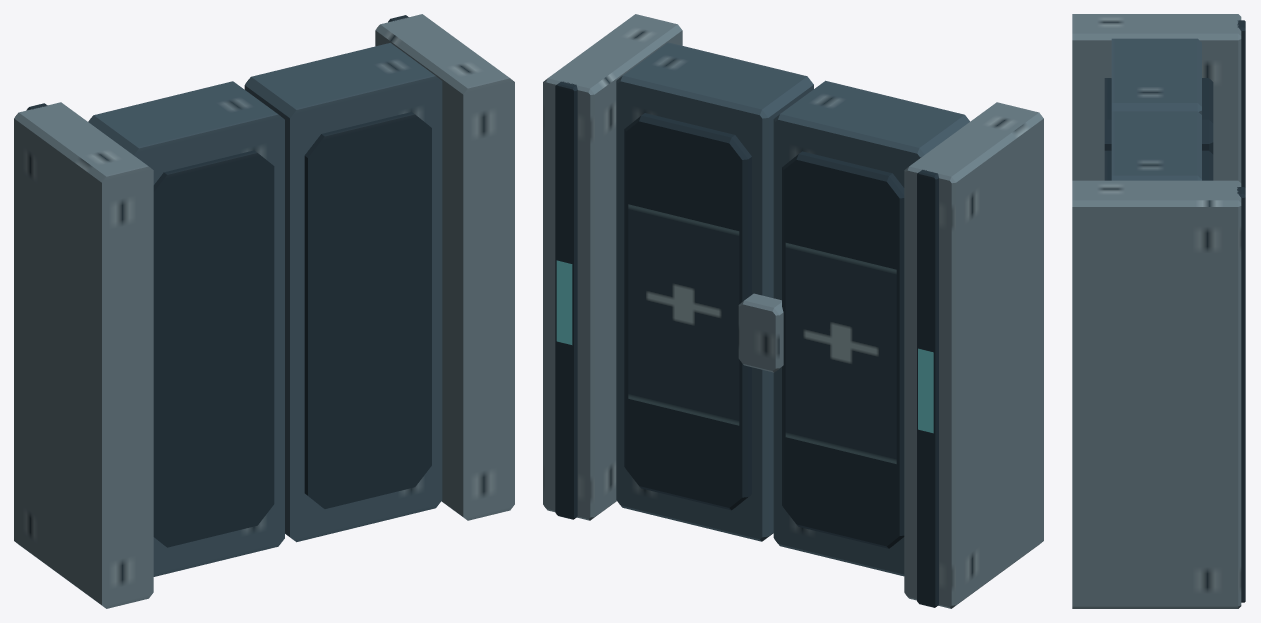
Rendered from ship_door.obj.
The picture shows the model from 3 angles, left to right: view 1: azimuth 30°, elevation 25°; view 2: azimuth 150°, elevation 25°; view 3: azimuth 270°, elevation 25°; orthographic projection. The views are drawn at different scales.
Visible parts, largest first — view 1: frame_0, right_rear_panel, left_rear_panel, frame_14, right_sliding_panel, left_sliding_panel; view 2: frame_0, frame_14, right_sliding_panel, right_raised_panel, left_raised_panel, left_hatch_marking, right_hatch_marking, left_sliding_panel, guide_14, guide_0, central_latch, frame_indicator_14 (+1 smaller); view 3: frame_14, frame_0, left_sliding_panel, right_sliding_panel, guide_14, left_raised_panel, guide_0, left_rear_panel, right_raised_panel.
Part boxes in pixels (box(x1,y1,x2,y2)): frame_0: box(14, 102, 153, 608); right_rear_panel: box(304, 112, 431, 508); left_rear_panel: box(153, 150, 274, 547); frame_14: box(375, 14, 514, 520); right_sliding_panel: box(244, 43, 442, 542); left_sliding_panel: box(88, 81, 284, 576); frame_0: box(904, 102, 1043, 608); frame_14: box(543, 14, 682, 520); right_sliding_panel: box(616, 42, 813, 541); right_raised_panel: box(624, 113, 751, 510); left_raised_panel: box(782, 151, 904, 548); left_hatch_marking: box(785, 243, 896, 463); right_hatch_marking: box(628, 204, 739, 425); left_sliding_panel: box(773, 80, 969, 576); guide_14: box(555, 81, 577, 519); guide_0: box(917, 169, 938, 607); central_latch: box(738, 293, 783, 372); frame_indicator_14: box(556, 260, 572, 344); frame_14: box(1072, 180, 1241, 608); frame_0: box(1072, 14, 1241, 182); left_sliding_panel: box(1111, 38, 1201, 114); right_sliding_panel: box(1111, 111, 1201, 180); guide_14: box(1237, 187, 1245, 602); left_raised_panel: box(1202, 78, 1213, 154); guide_0: box(1237, 20, 1245, 187); left_rear_panel: box(1104, 78, 1111, 150); right_raised_panel: box(1202, 150, 1213, 180).
Bounding box in the file's own units: 1 × 1 × 0.3869.
